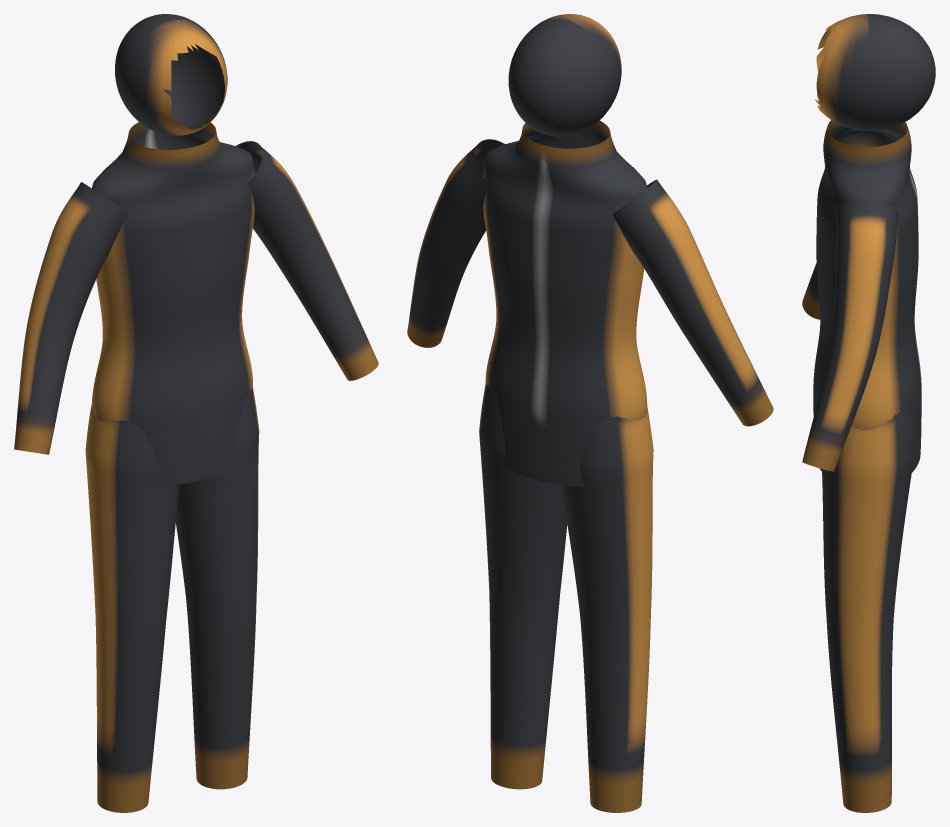
Rendered from combi-54.glb.
3 renders of one model, left to right at view 1: azimuth 30°, elevation 25°; view 2: azimuth 150°, elevation 25°; view 3: azimuth 270°, elevation 25°, orthographic.
Parts seen in each view (by area): view 1: torse, jambe-1, jambe1, bras-1, bras1, cagoule; view 2: torse, jambe-1, jambe1, bras-1, cagoule, bras1; view 3: jambe1, torse, bras1, cagoule, bras-1.
Part boxes in pixels (x1,y1,x2,y2): torse: (92,122,254,486); jambe-1: (85,404,179,812); jambe1: (175,387,259,789); bras-1: (14,182,127,454); bras1: (236,141,378,380); cagoule: (115,14,227,135); torse: (483,120,647,487); jambe-1: (560,408,653,812); jambe1: (479,384,567,789); bras-1: (612,179,773,426); cagoule: (508,14,621,136); bras1: (407,139,504,347); jambe1: (822,411,914,812); torse: (813,120,921,472); bras1: (802,201,898,471); cagoule: (814,14,935,131); bras-1: (802,263,820,319).
Size of the model in its own units: 0.8376 by 1.71 by 0.2714.
